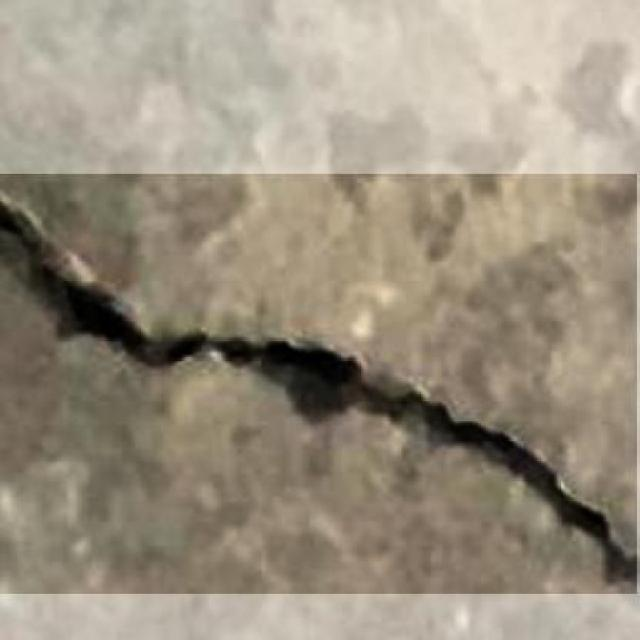Crack: (0, 198, 634, 590)
